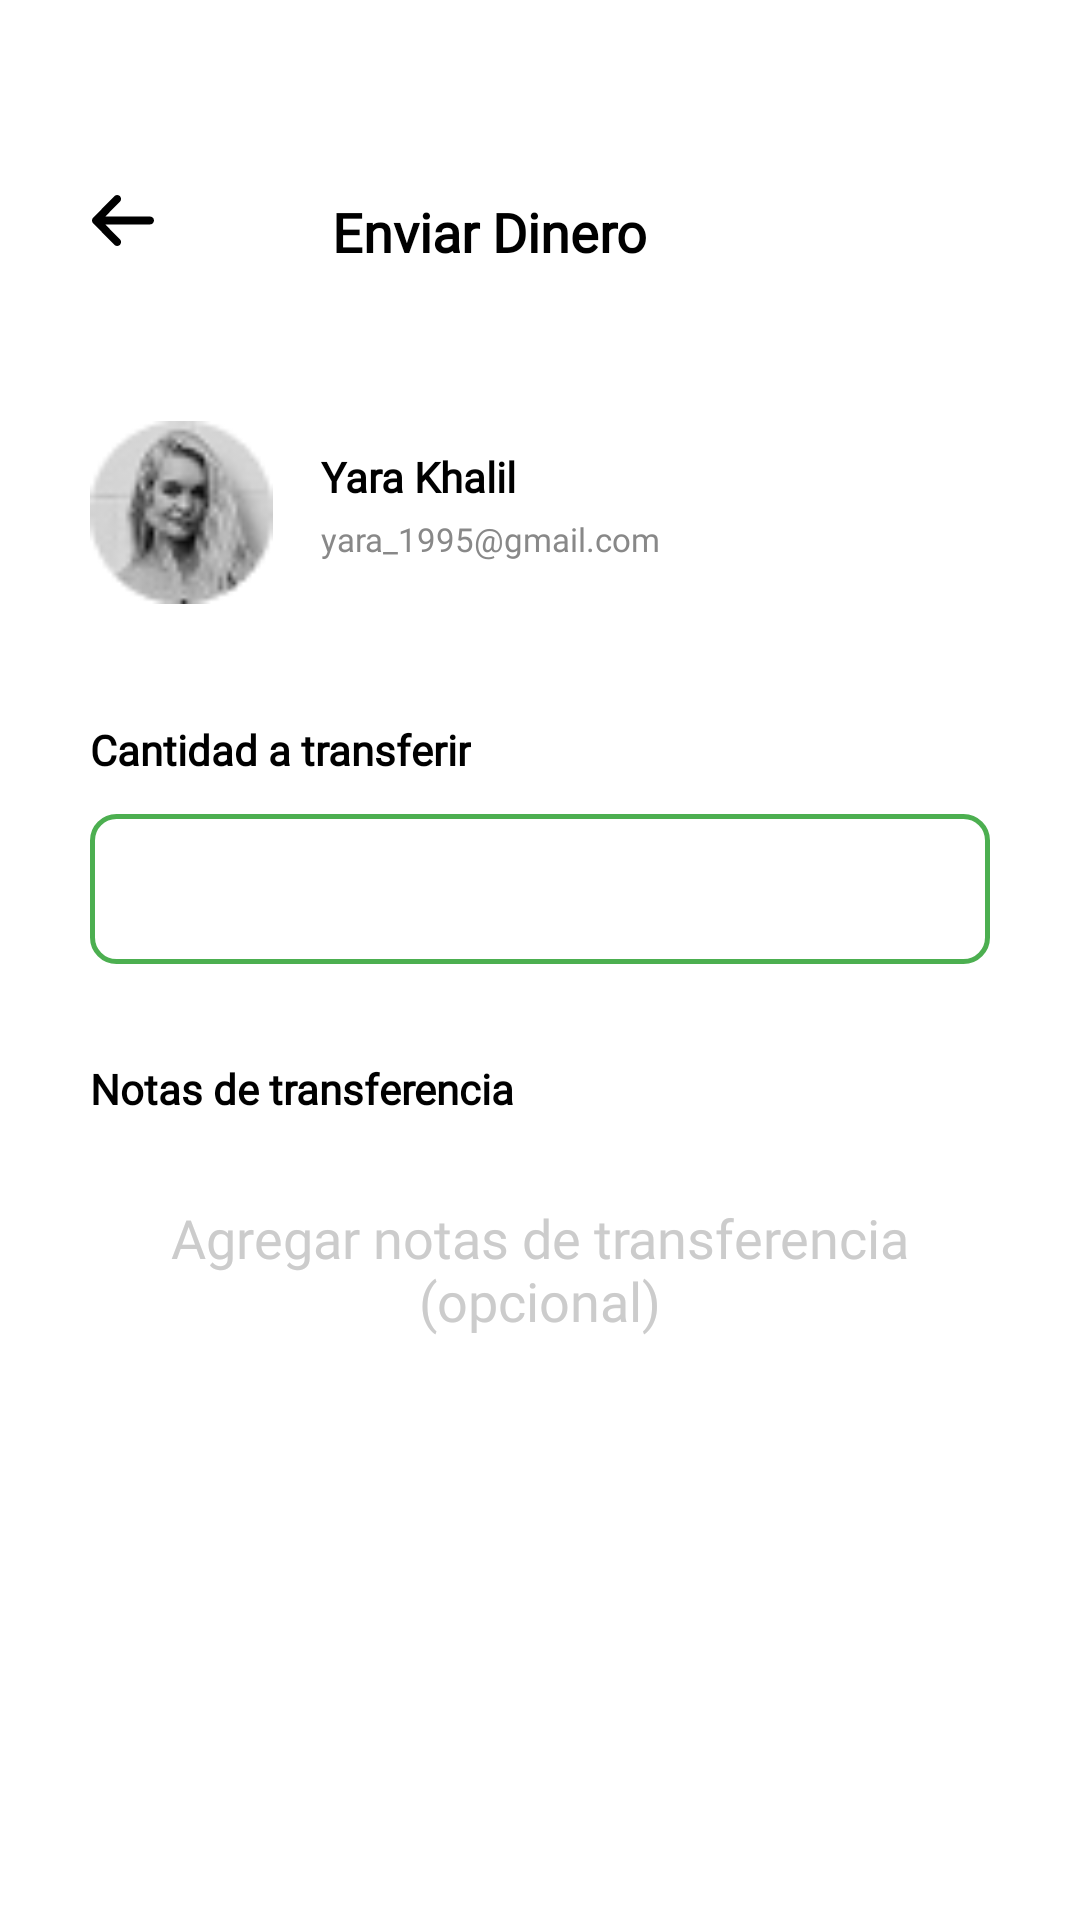

Icons on this 1080 × 1920 Android screen, each with the point to tap as (x,y):
flecha back: (123,220)
